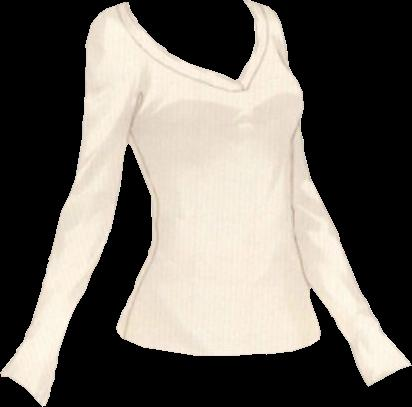Bodice: (109, 0, 320, 355)
Neckline: (127, 0, 257, 81)
Sleeve: (0, 7, 141, 405)
Sleeveline: (109, 8, 146, 119)
Waistline: (113, 325, 323, 358)
